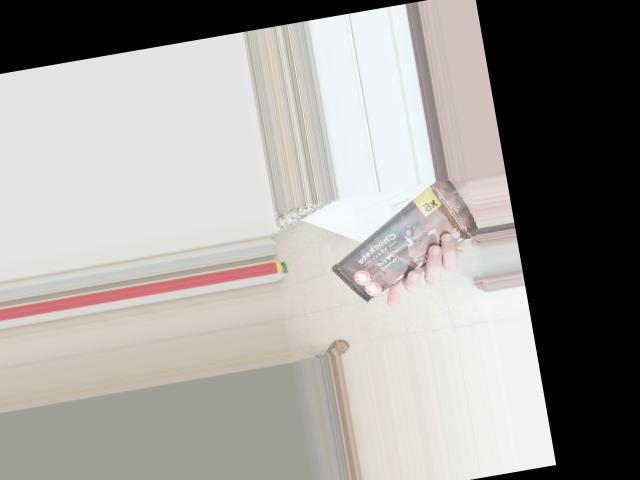chocolate: (314, 176, 476, 306)
